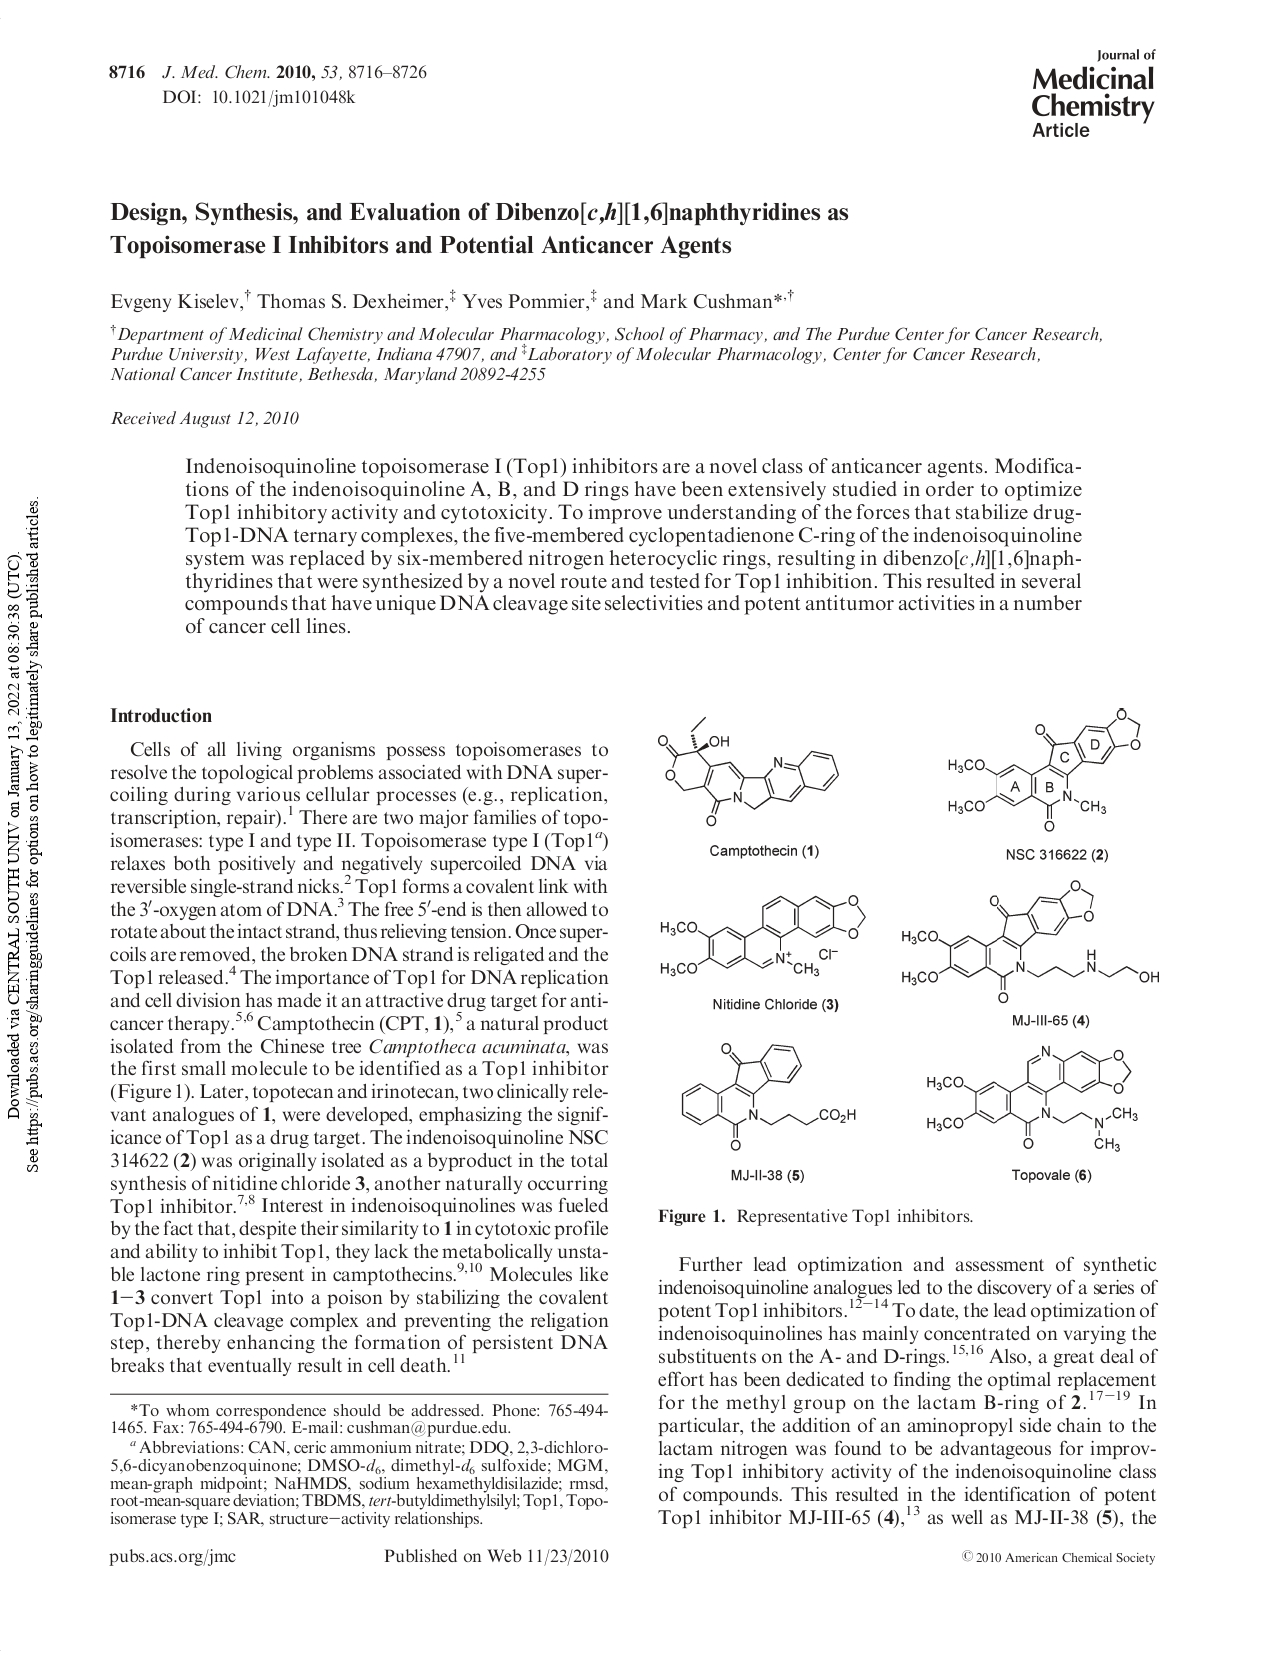exist_molecular: (898, 880, 1161, 988), (946, 706, 1144, 833), (923, 1047, 1140, 1154), (656, 714, 842, 827), (680, 1041, 858, 1153), (658, 892, 868, 979)
